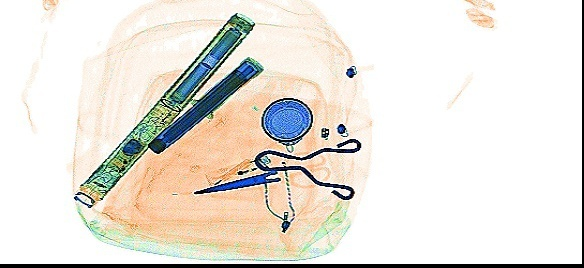lighter: (202, 152, 271, 190)
scissors: (191, 149, 331, 195)
slingshot: (250, 135, 363, 201)
